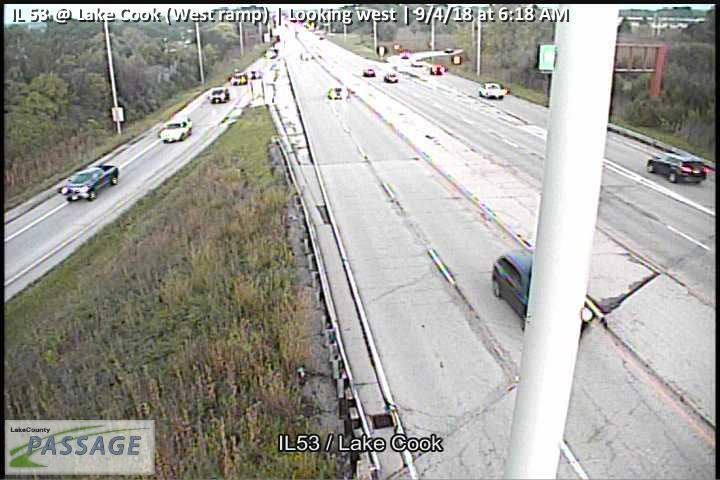SUV: (645, 153, 710, 182)
Sedan: (476, 80, 506, 100), (206, 86, 229, 104)
Truck: (62, 161, 120, 201), (158, 116, 195, 142)
